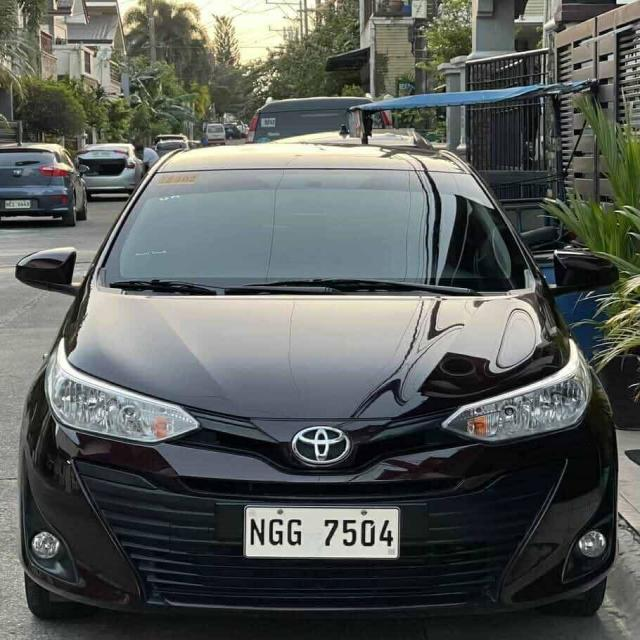number: (243, 505, 399, 559)
